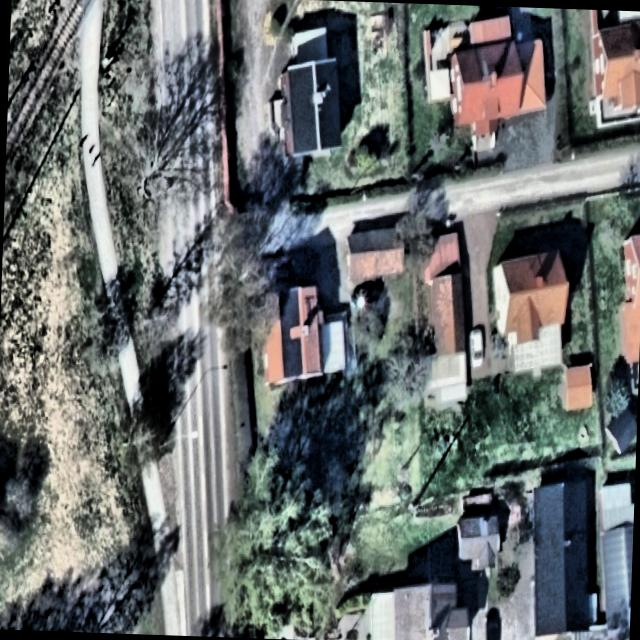roof_pv: (277, 284, 301, 330), (278, 337, 302, 377), (280, 330, 292, 338)
